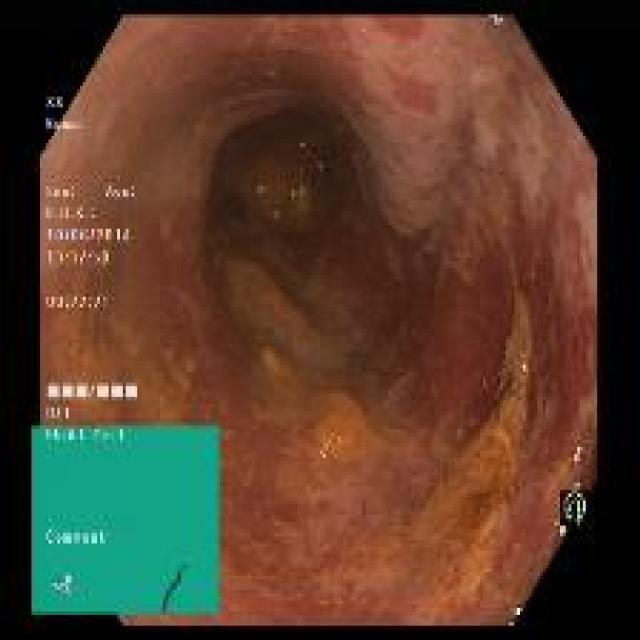ulcerative-colitis: (40, 19, 595, 623)
